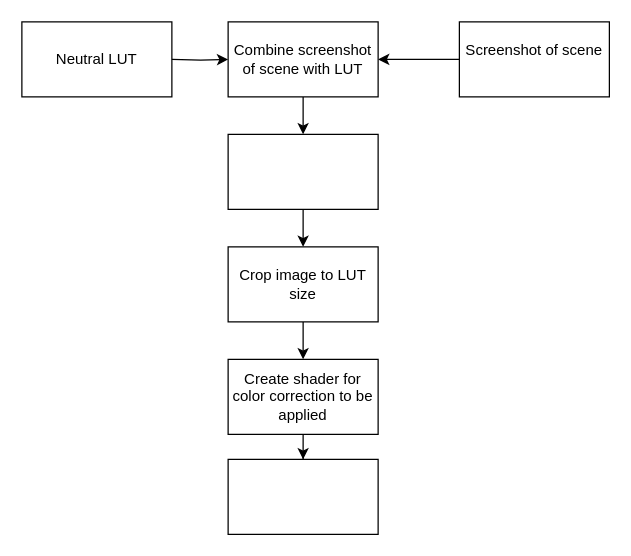
The diagram is 631 pixels wide and 556 high, and some of its shapes have lost their labels. The shapes that lost their labels are listed below. From the top down, each one's centre as x and y in pixels, then its label:
At point (302, 171): "Color Correct combined images".
At point (302, 496): "Create script to apply LUT to camera and attach to camera".
